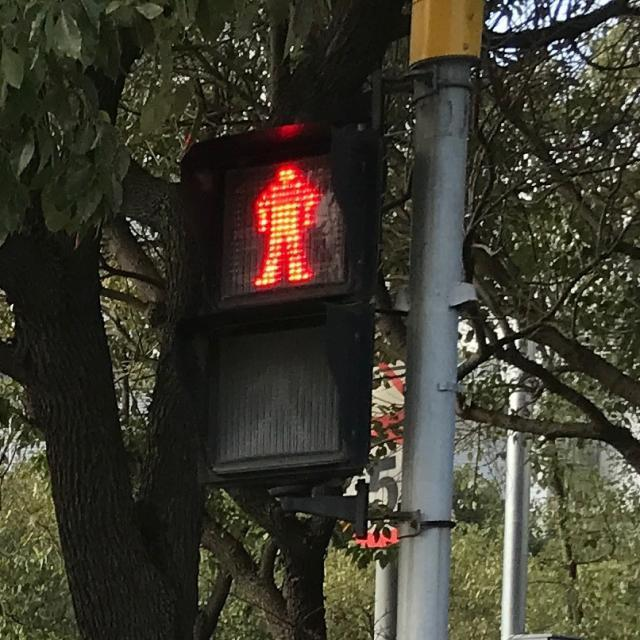red-crossing: (246, 160, 318, 286)
